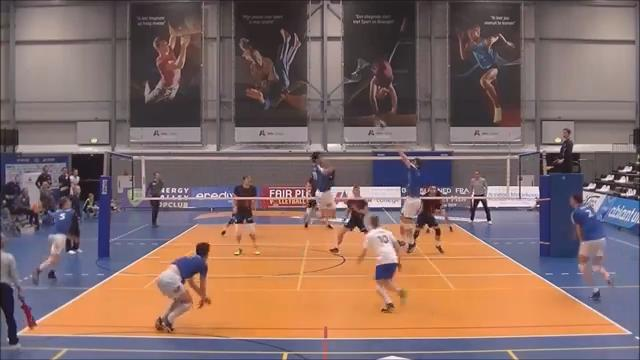Player: (155, 242, 210, 331), (358, 216, 405, 312), (32, 197, 77, 284), (570, 194, 611, 285), (330, 185, 367, 253), (407, 186, 443, 252), (233, 176, 259, 255), (311, 152, 335, 227), (436, 204, 453, 231), (304, 198, 316, 227), (221, 212, 235, 235)
Set: (391, 140, 423, 257)
ball: (377, 117, 387, 129)
